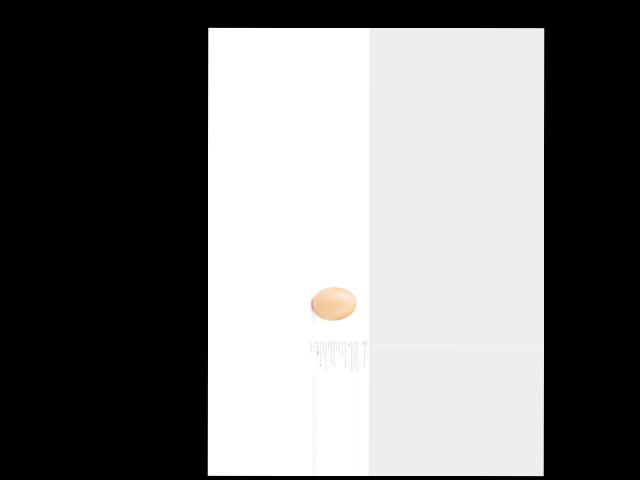egg: (312, 287, 356, 321)
